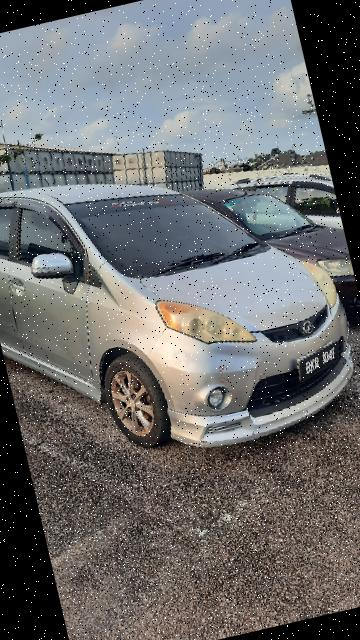License_Plate: (281, 329, 360, 390)
car: (1, 123, 360, 490)
